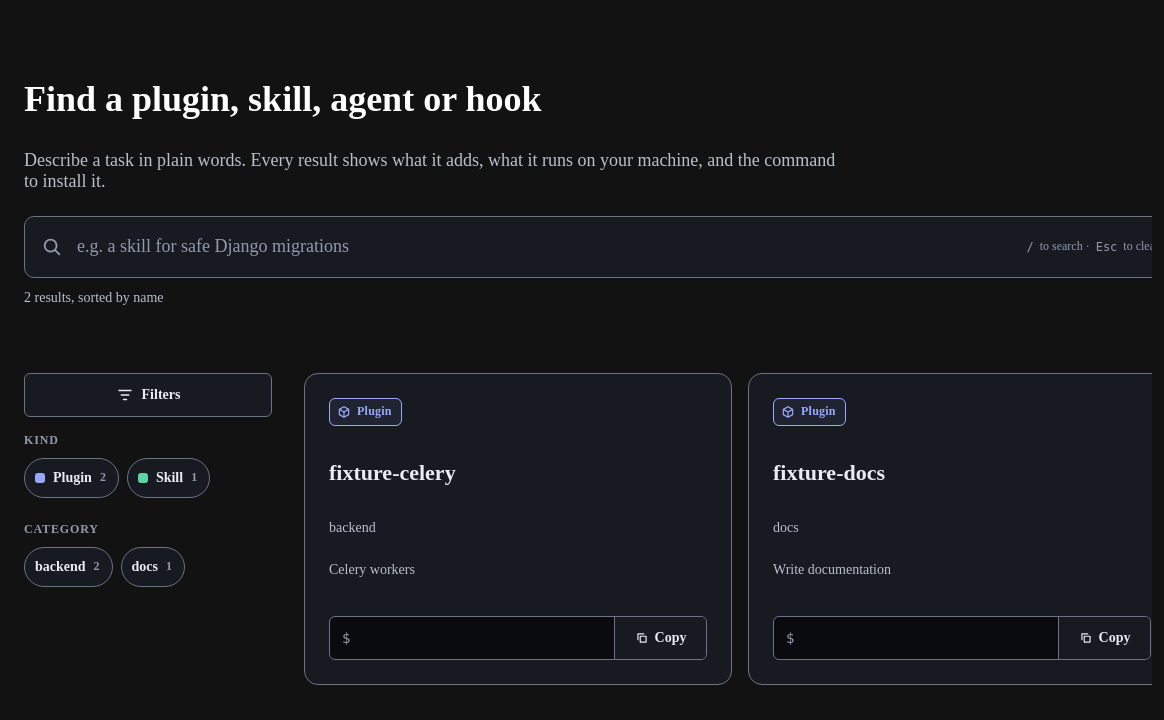
Test: SearchPage › lists every plugin by name for an empty query, then ranks after the 120 ms debounce and writes the hash
Expected: the message reads "2 results, sorted by name", [24,290,164,305]
Type "documentation" into the search field.
click(545, 247); type("documentation")  # box [75,218,1014,276]
Wait 120 ms
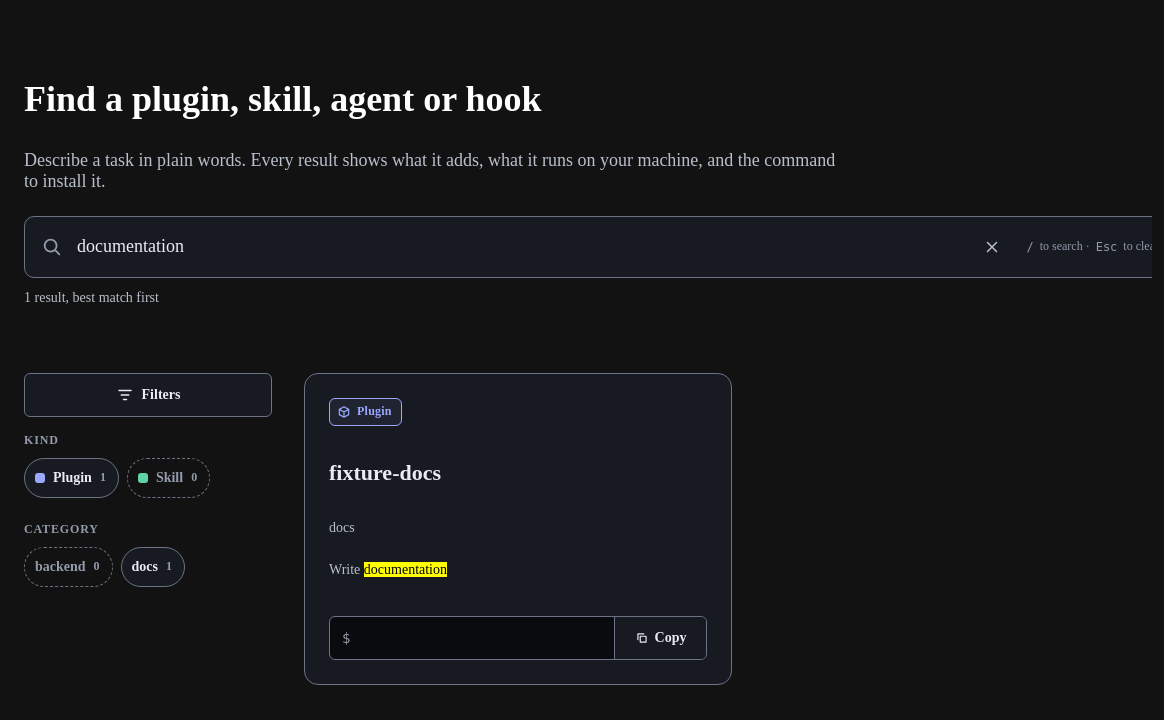
Now the message reads "1 result, best match first", box [24,290,159,305]
